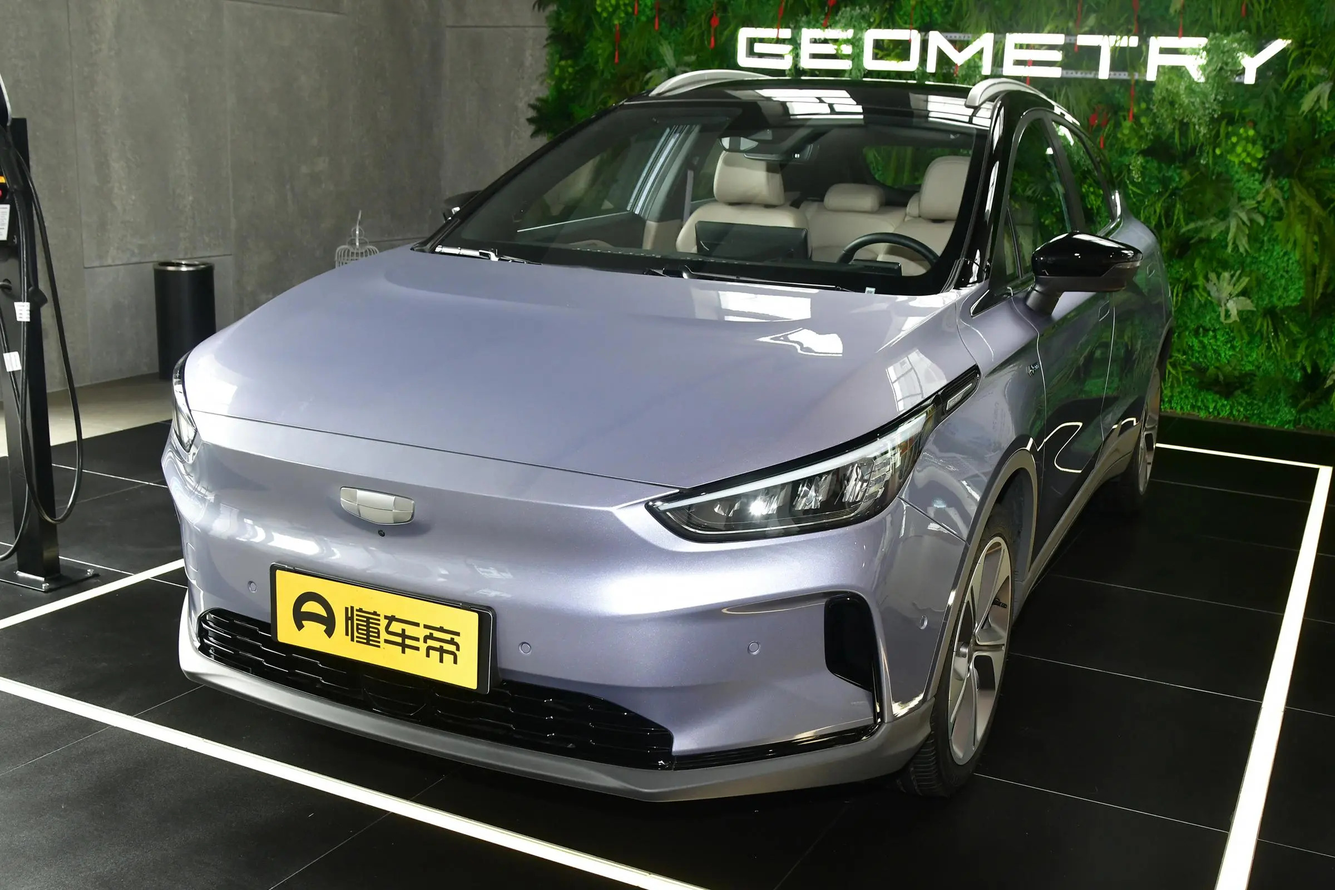GEOMETRY: (341, 487, 413, 524)
